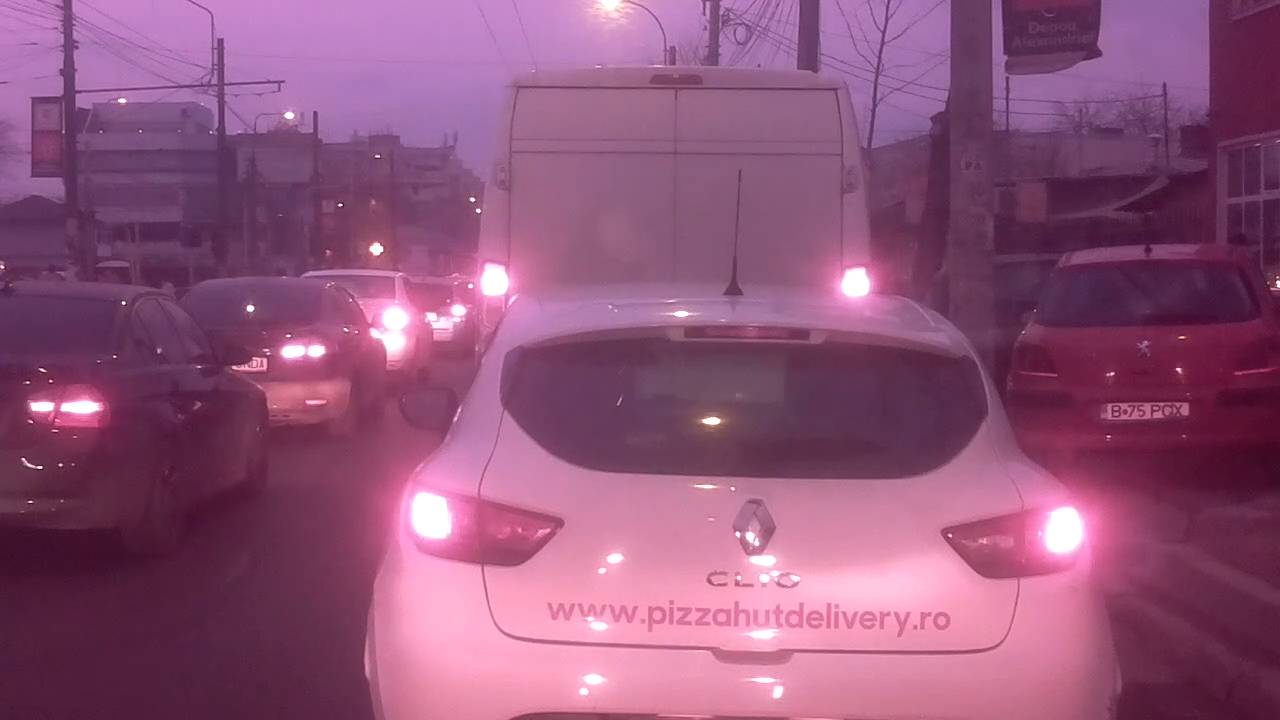license-plate: (1099, 401, 1191, 421)
